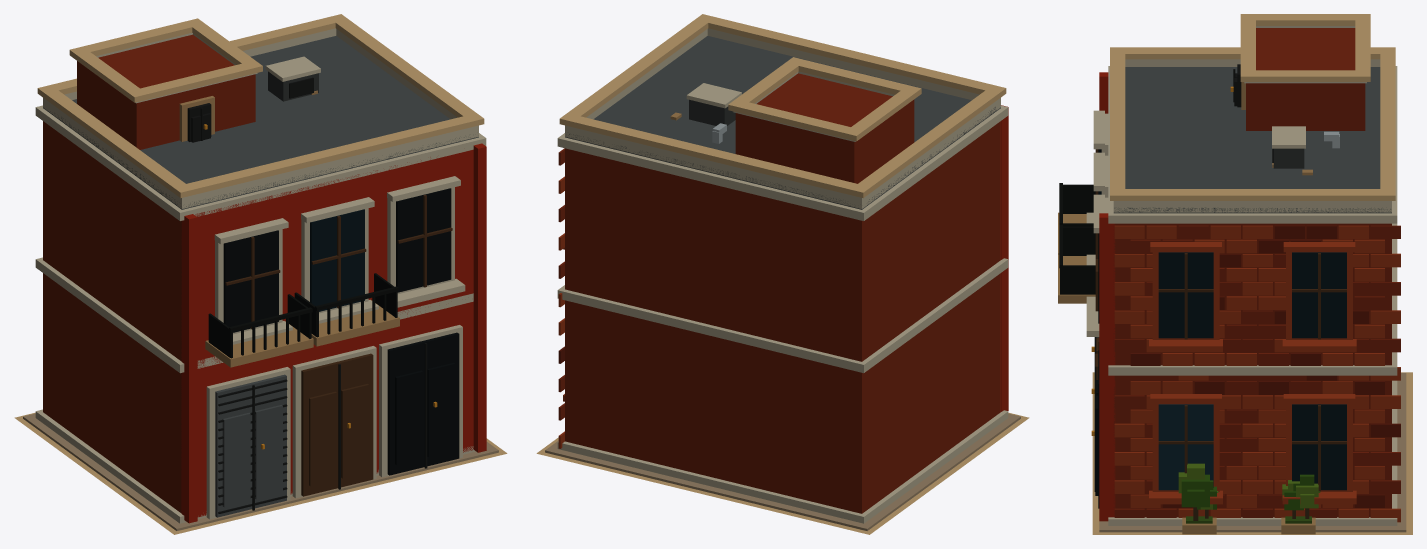
File: SM_Mapa_032.fbx
The picture shows the model from 3 angles, left to right: view 1: azimuth 30°, elevation 25°; view 2: azimuth 150°, elevation 25°; view 3: azimuth 270°, elevation 25°; orthographic projection.
Visible parts, largest first — view 1: SM_Mapa_032; view 2: SM_Mapa_032; view 3: SM_Mapa_032.
Boxes of the visible parts, x1,y1,x2,y2 form: SM_Mapa_032: [14, 14, 507, 534]; SM_Mapa_032: [536, 14, 1029, 534]; SM_Mapa_032: [1058, 14, 1412, 534].
Bounding box in the file's own units: 8 × 7.17 × 8.36.
